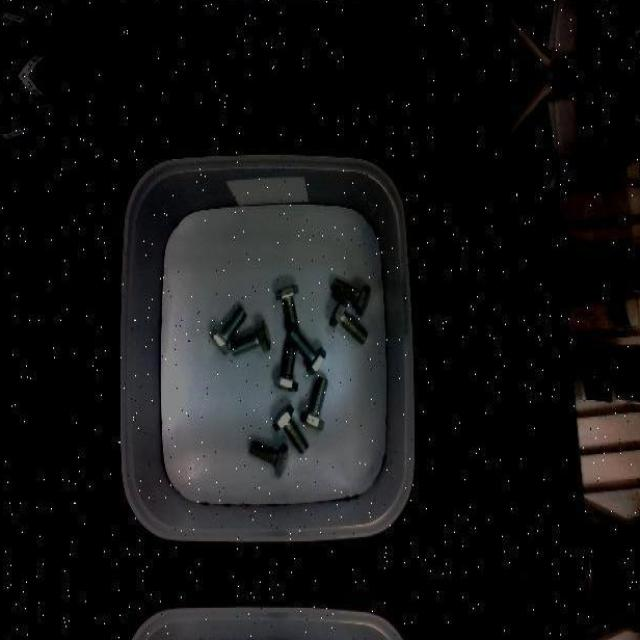screw: (287, 327, 328, 376), (329, 297, 369, 346), (273, 403, 309, 455), (210, 304, 247, 354), (330, 276, 371, 316), (248, 438, 289, 477), (302, 375, 328, 431), (232, 320, 271, 356), (274, 339, 300, 391)
